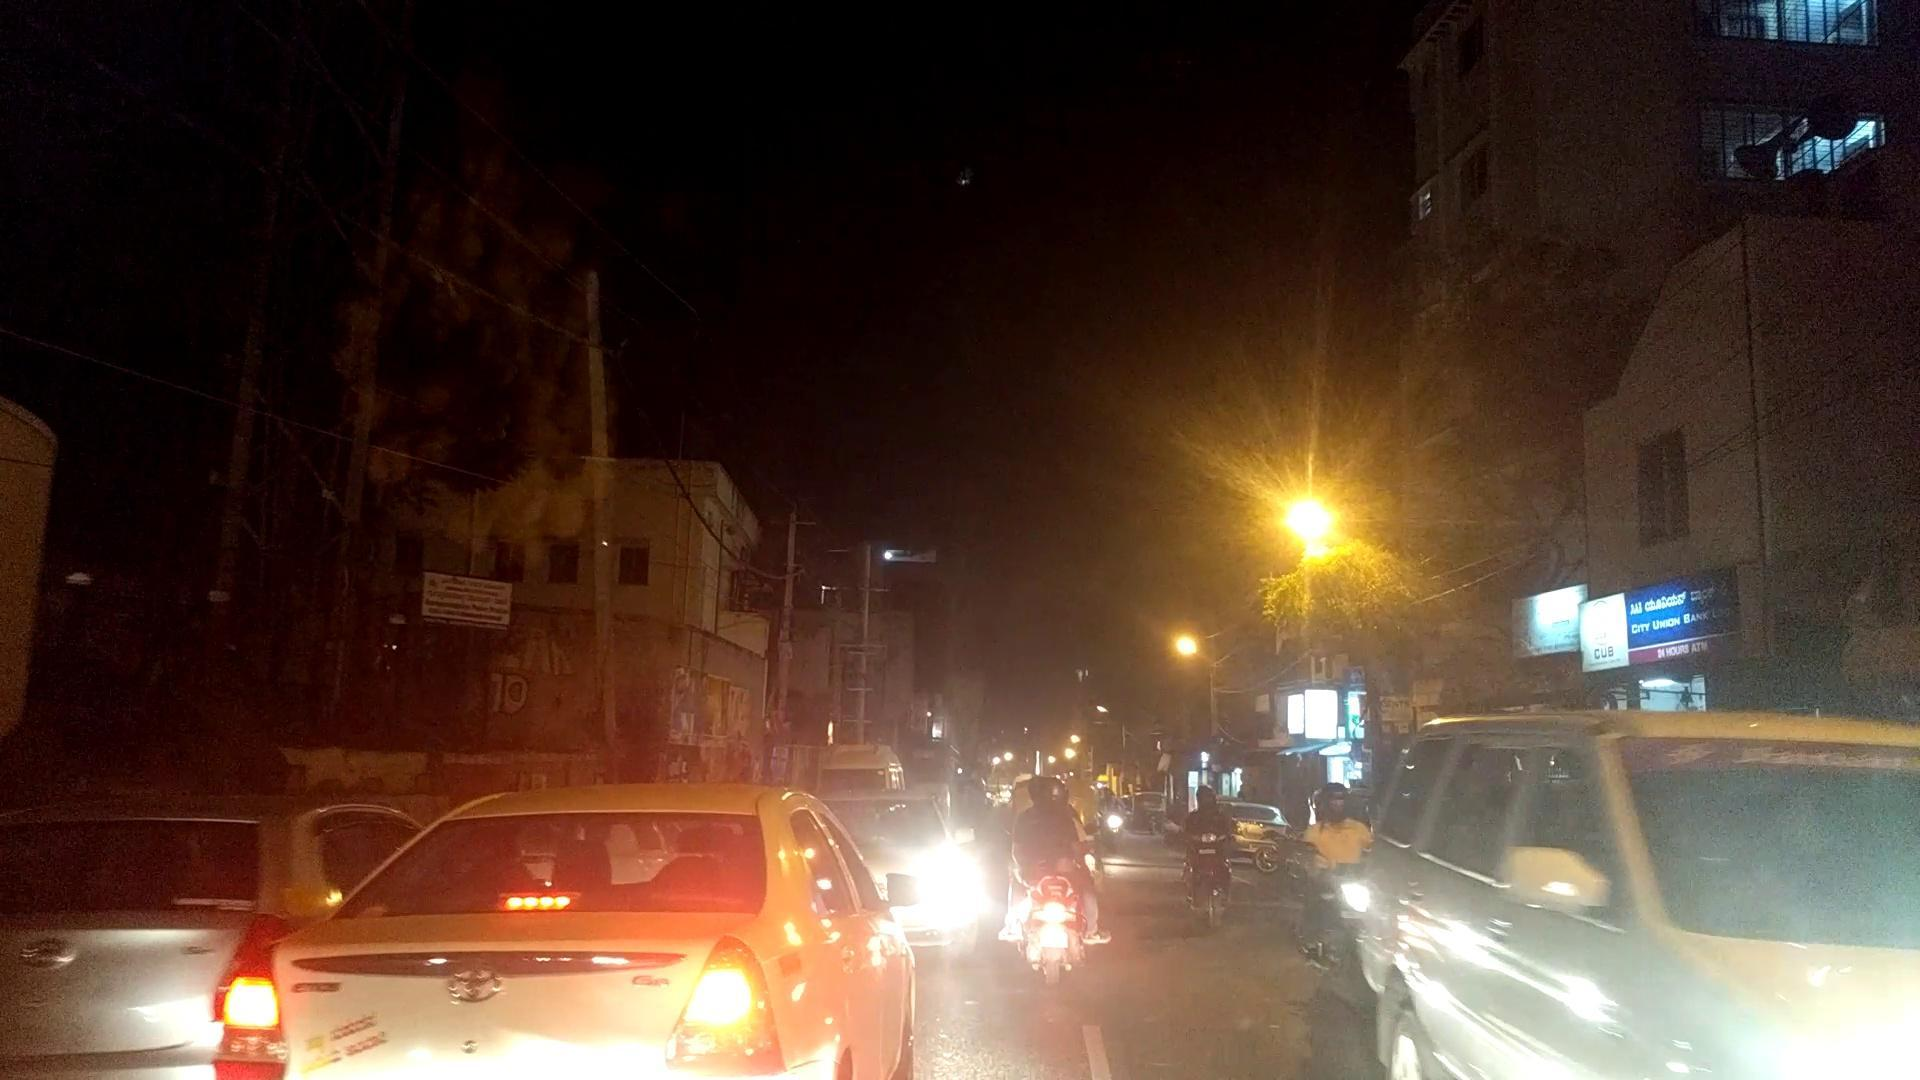on: (1120, 352, 1455, 667)
